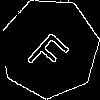F: (24, 23, 77, 78)
